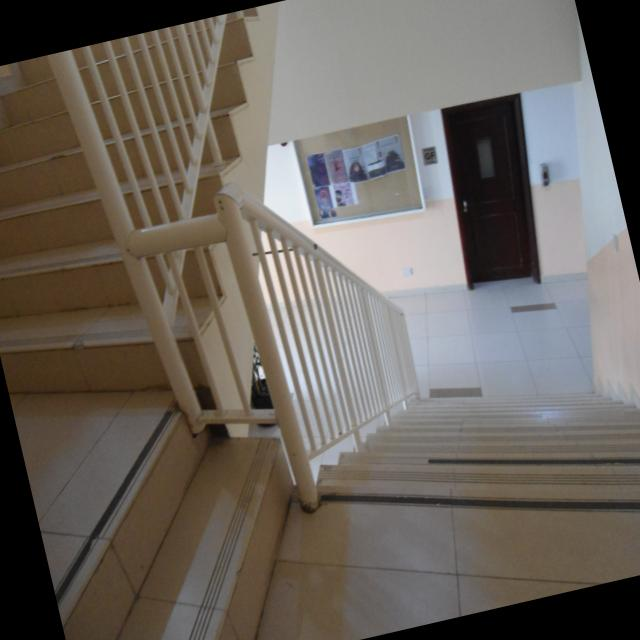board: (290, 119, 427, 237)
door: (428, 80, 570, 314)
railing: (52, 6, 320, 326), (105, 188, 311, 518), (230, 165, 441, 466)
stairs: (0, 5, 340, 426), (290, 323, 640, 640), (16, 368, 334, 640)
